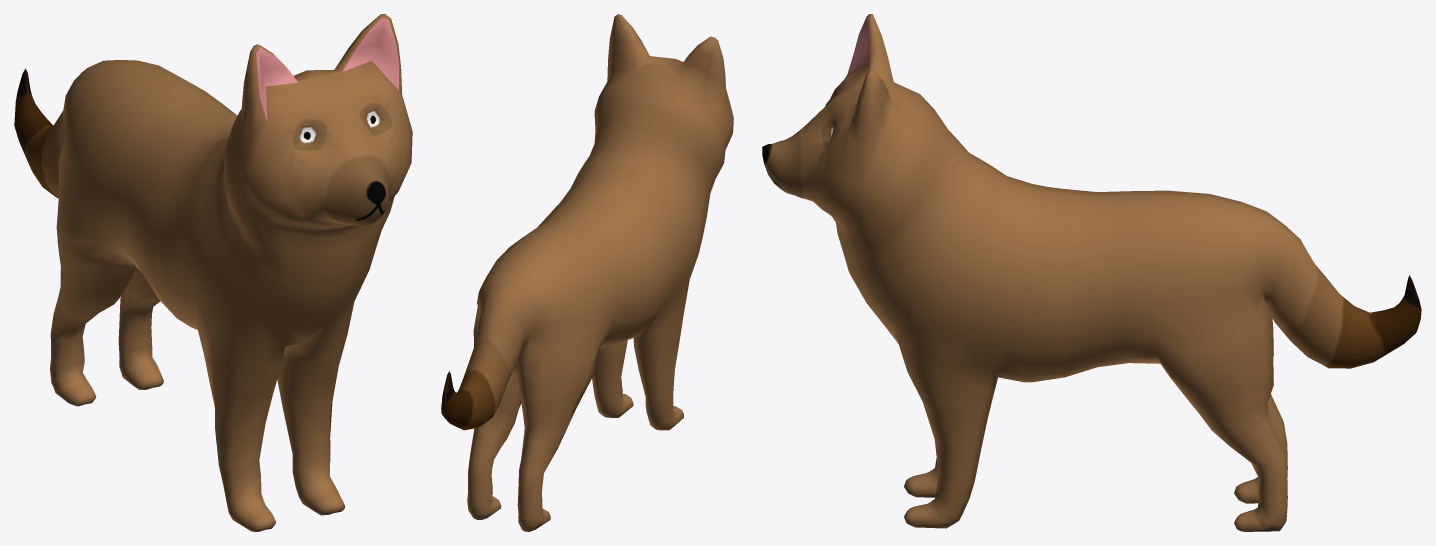
File: dog.fbx
The picture shows the model from 3 angles, left to right: view 1: azimuth 30°, elevation 25°; view 2: azimuth 150°, elevation 25°; view 3: azimuth 270°, elevation 25°; orthographic projection. The views are drawn at different scales.
Parts seen in each view (by area): view 1: dog; view 2: dog; view 3: dog.
Part boxes in pixels (<box>): dog: <box>14,14,412,531</box>; dog: <box>441,14,733,531</box>; dog: <box>762,14,1421,531</box>.
Size of the model in its own units: 42.65 by 125 by 158.
1 material, 1 textured.
